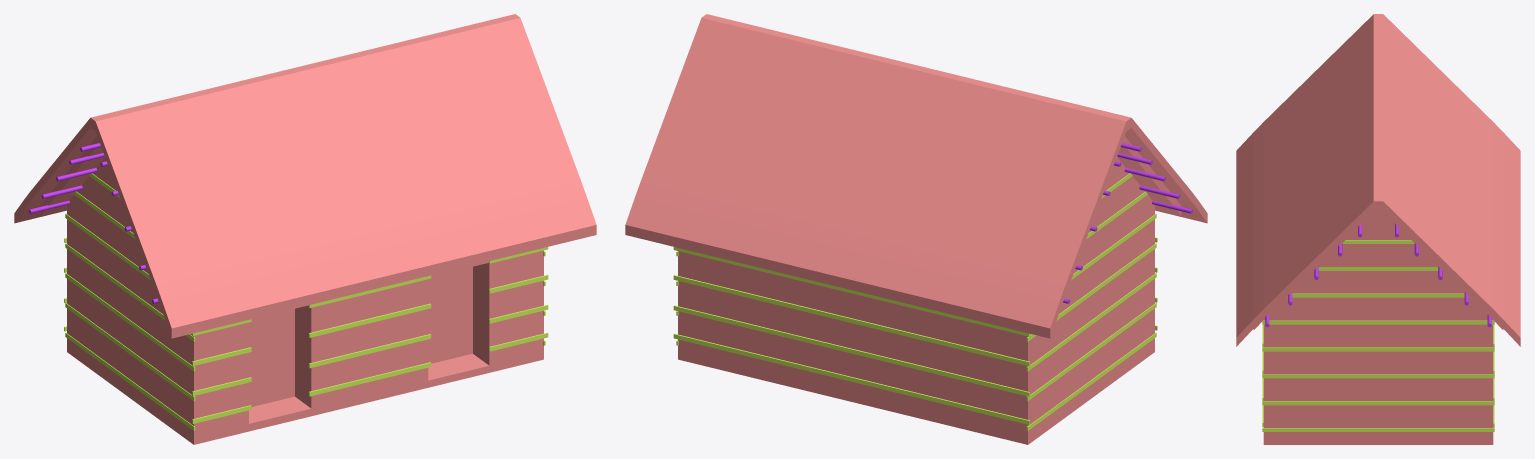
3 views of the same model, side by side, from view 1: azimuth 30°, elevation 25°; view 2: azimuth 150°, elevation 25°; view 3: azimuth 270°, elevation 25° (orthographic). The views are drawn at different scales.
Visible parts, largest first — view 1: 房子主體, 房子周圍橫柱, 屋簷柱; view 2: 房子主體, 房子周圍橫柱, 屋簷柱; view 3: 房子主體, 房子周圍橫柱, 屋簷柱.
Boxes of the visible parts, x1,y1,x2,y2 form: 房子主體: (14,14,596,444); 房子周圍橫柱: (64,156,548,430); 屋簷柱: (29,143,158,303); 房子主體: (625,14,1207,444); 房子周圍橫柱: (673,156,1157,430); 屋簷柱: (1063,143,1192,303); 房子主體: (1236,14,1520,444); 房子周圍橫柱: (1262,240,1494,431); 屋簷柱: (1265,224,1491,327).
Size of the model in its own units: 309 by 199 by 197.
